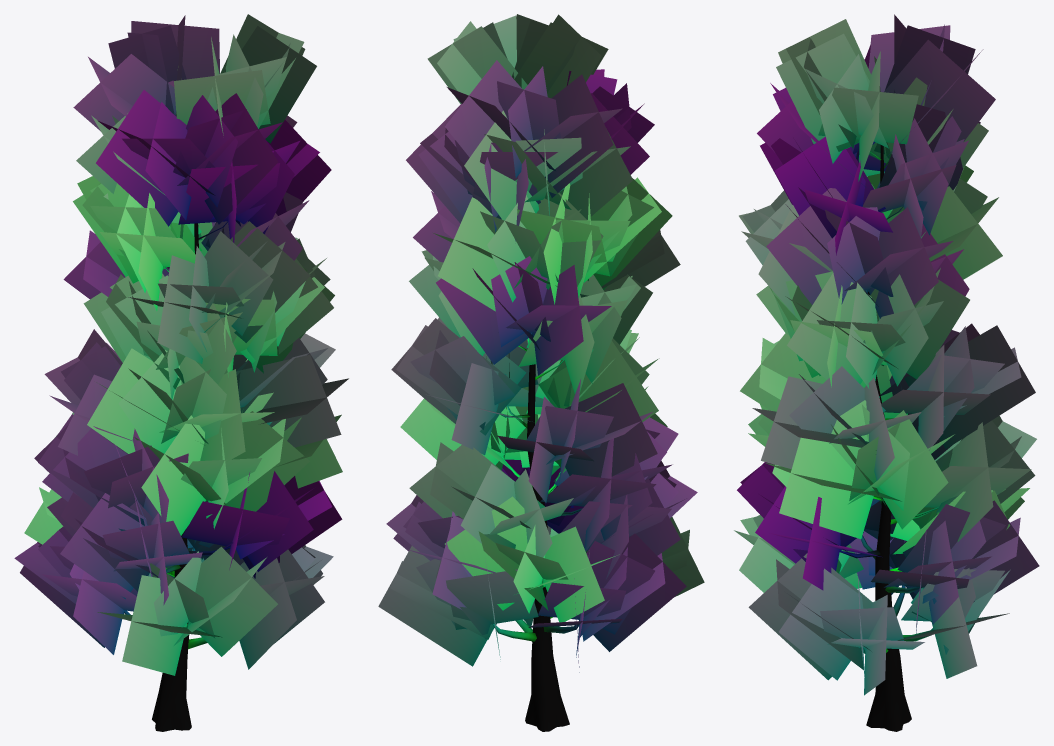
File: Tree_5_2.fbx
3 views of the same model, side by side, from view 1: azimuth 30°, elevation 25°; view 2: azimuth 150°, elevation 25°; view 3: azimuth 270°, elevation 25° (orthographic). The views are drawn at different scales.
Parts seen in each view (by area): view 1: _2; view 2: _2; view 3: _2.
Boxes of the visible parts, x1,y1,x2,y2 form: _2: (14,14,348,731); _2: (378,14,704,731); _2: (734,14,1039,731).
Bounding box in the file's own units: 977 × 2374 × 926.
